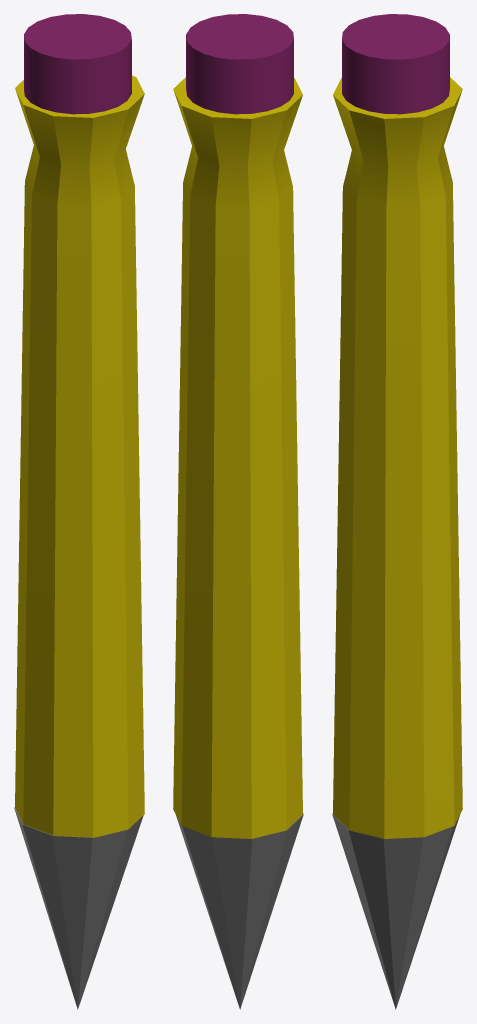
File: PENCIL_TEXTURE.obj
3 renders of one model, left to right at view 1: azimuth 30°, elevation 25°; view 2: azimuth 210°, elevation 25°; view 3: azimuth 330°, elevation 25°, orthographic.
Parts seen in each view (by area): view 1: pCylinder1, pCone1, pCylinder2; view 2: pCylinder1, pCone1, pCylinder2; view 3: pCylinder1, pCone1, pCylinder2.
Part boxes in pixels (<box>): pCylinder1: <box>15,75,144,837</box>; pCone1: <box>14,807,143,1009</box>; pCylinder2: <box>24,14,131,114</box>; pCylinder1: <box>173,77,302,838</box>; pCone1: <box>175,813,303,1009</box>; pCylinder2: <box>186,14,293,114</box>; pCylinder1: <box>333,77,462,838</box>; pCone1: <box>332,813,460,1009</box>; pCylinder2: <box>342,14,449,114</box>.
Size of the model in its own units: 2.01 by 16.44 by 1.9.
